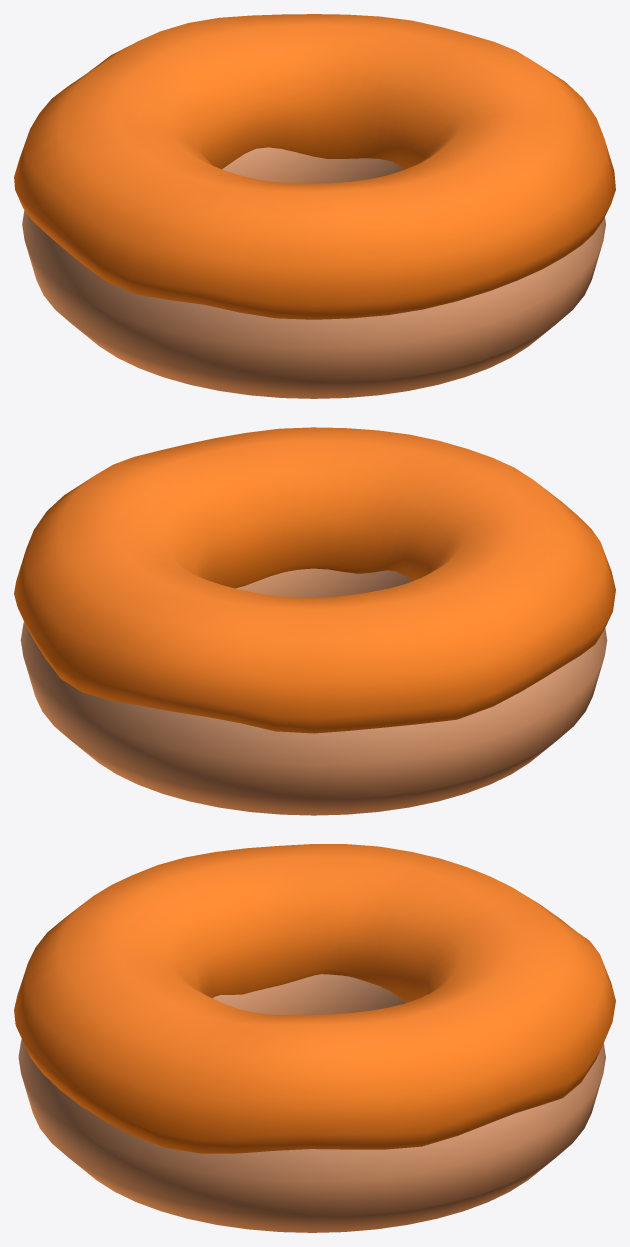
The model's file is Donut_04.glb.
The picture shows the model from 3 angles, top to bottom: view 1: azimuth 30°, elevation 25°; view 2: azimuth 150°, elevation 25°; view 3: azimuth 270°, elevation 25°; orthographic projection.
Parts seen in each view (by area): view 1: Donut_04; view 2: Donut_04; view 3: Donut_04.
Part boxes in pixels (box(x1,y1,x2,y2)): Donut_04: box(14, 14, 615, 398); Donut_04: box(14, 427, 615, 815); Donut_04: box(14, 844, 615, 1232).
Bounding box in the file's own units: 10.77 × 3.95 × 10.82.
2 materials, 2 textured.
